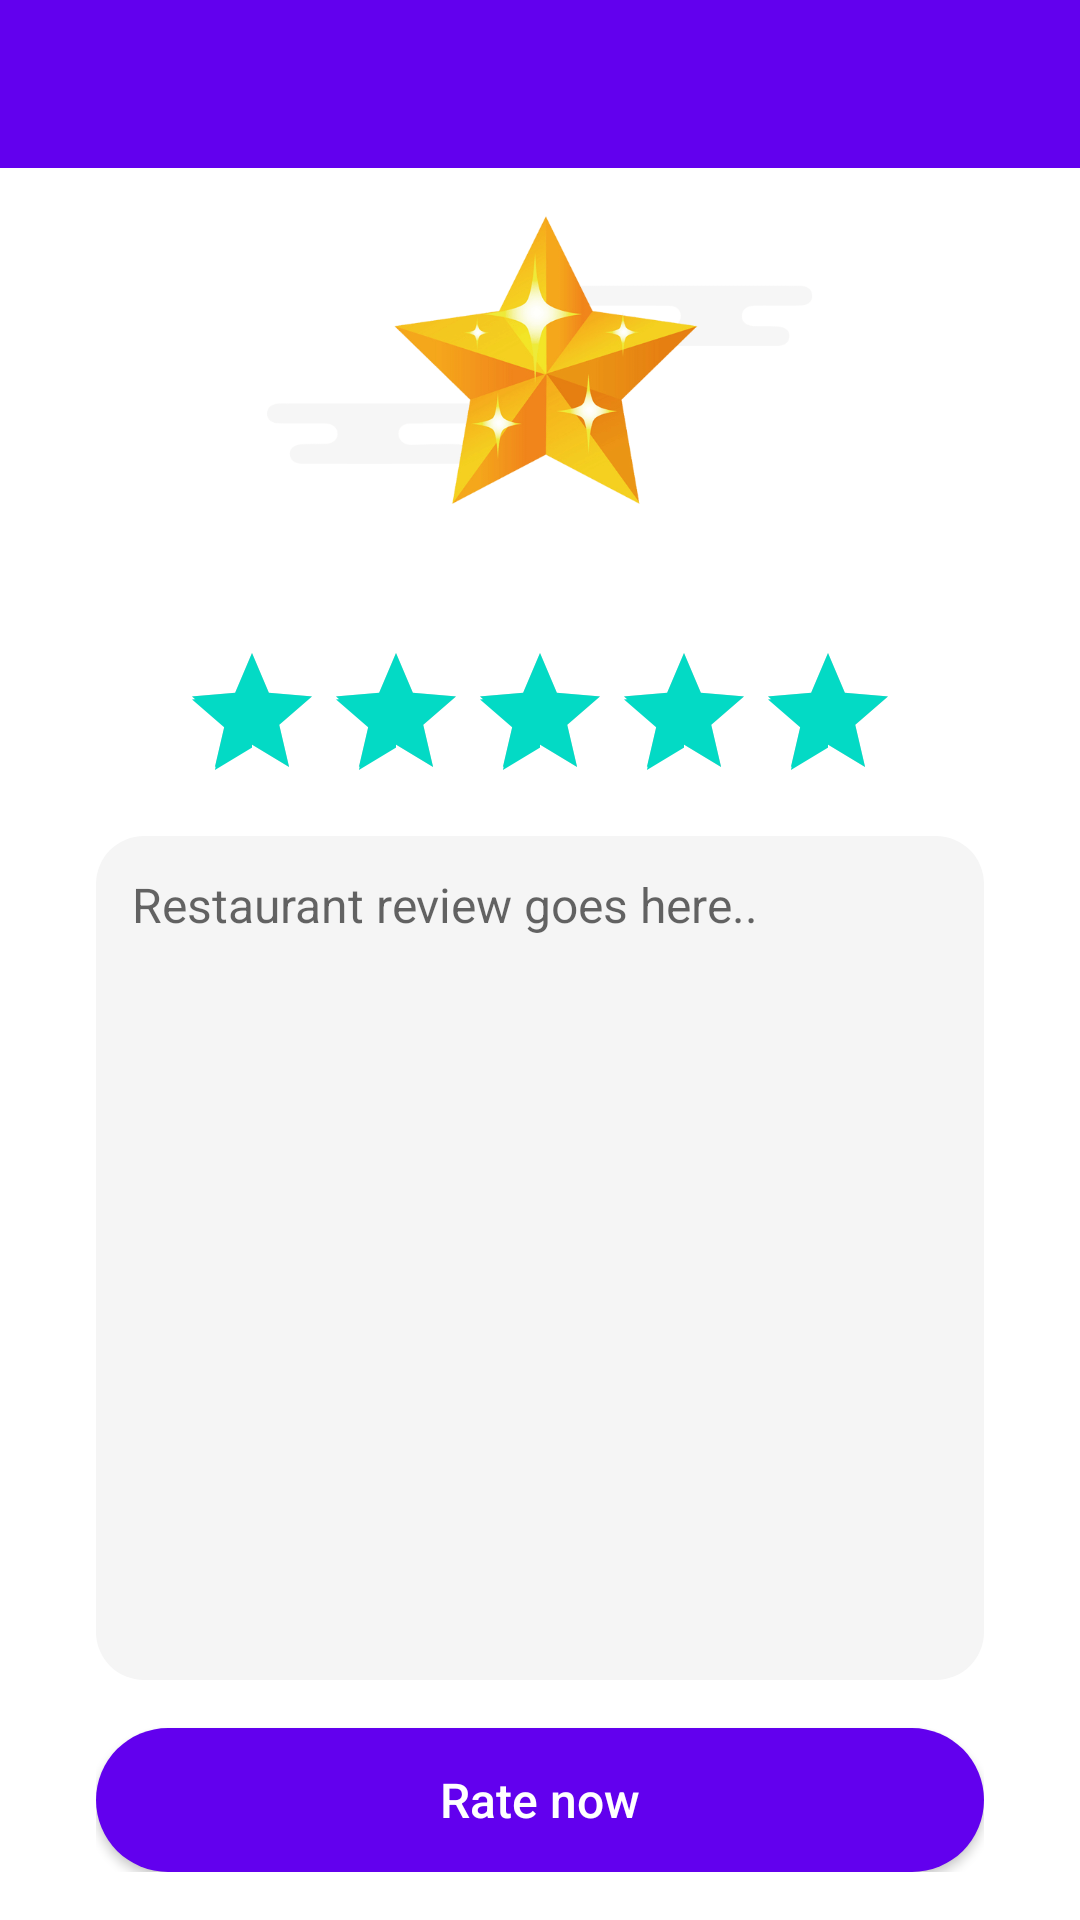

Icons on this 1080×1920 Android screen, each with the point to tap as point (x, y):
star: point (546, 360)
